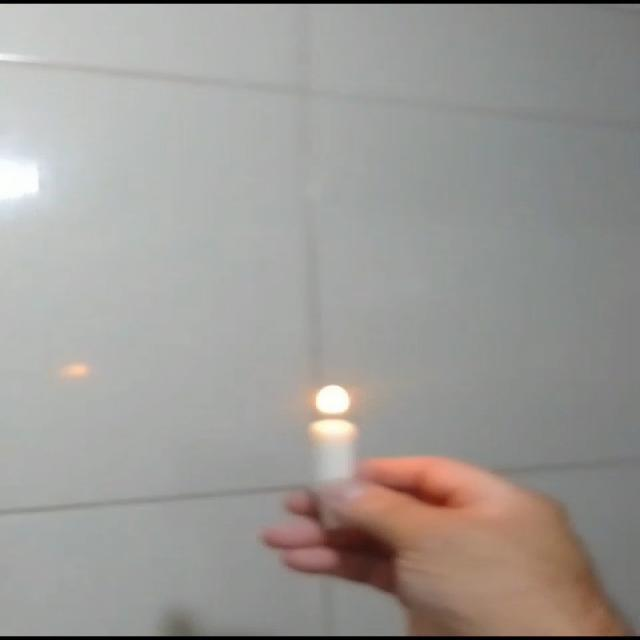fogo-ypXI: (312, 384, 351, 416)
